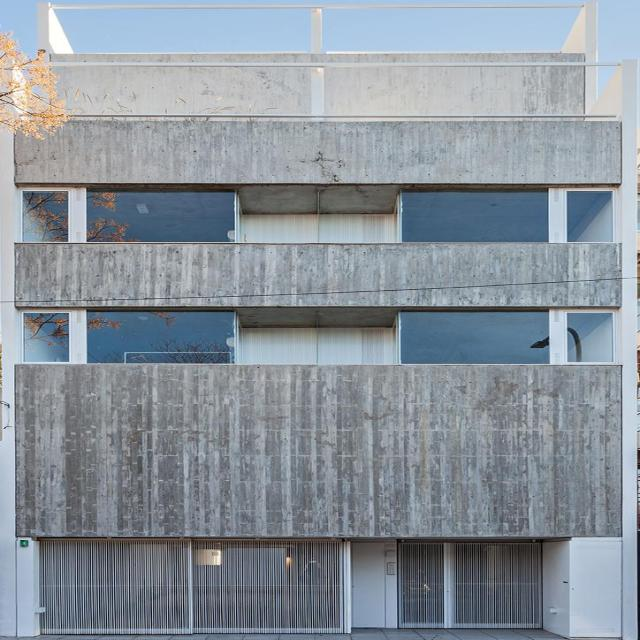door: (401, 544, 546, 631)
plant: (0, 33, 63, 142)
wall: (0, 0, 636, 635)
windows: (14, 185, 237, 242), (400, 187, 614, 242), (396, 309, 614, 362), (22, 312, 236, 363)
